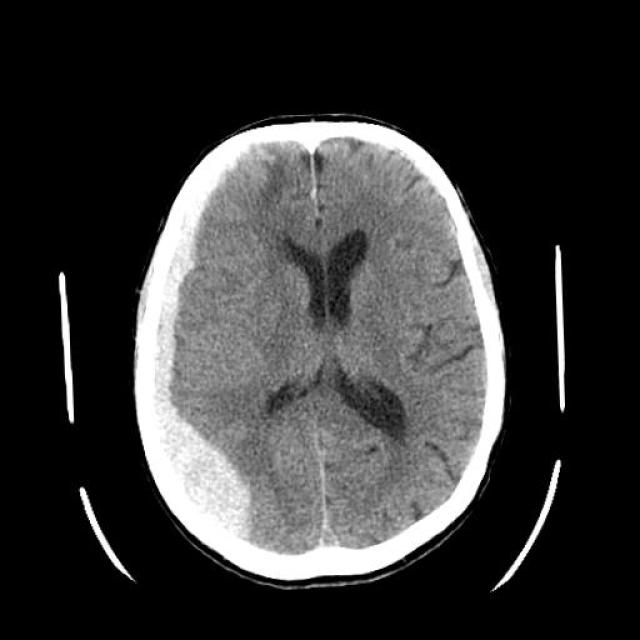Subdural: (109, 133, 272, 579)
